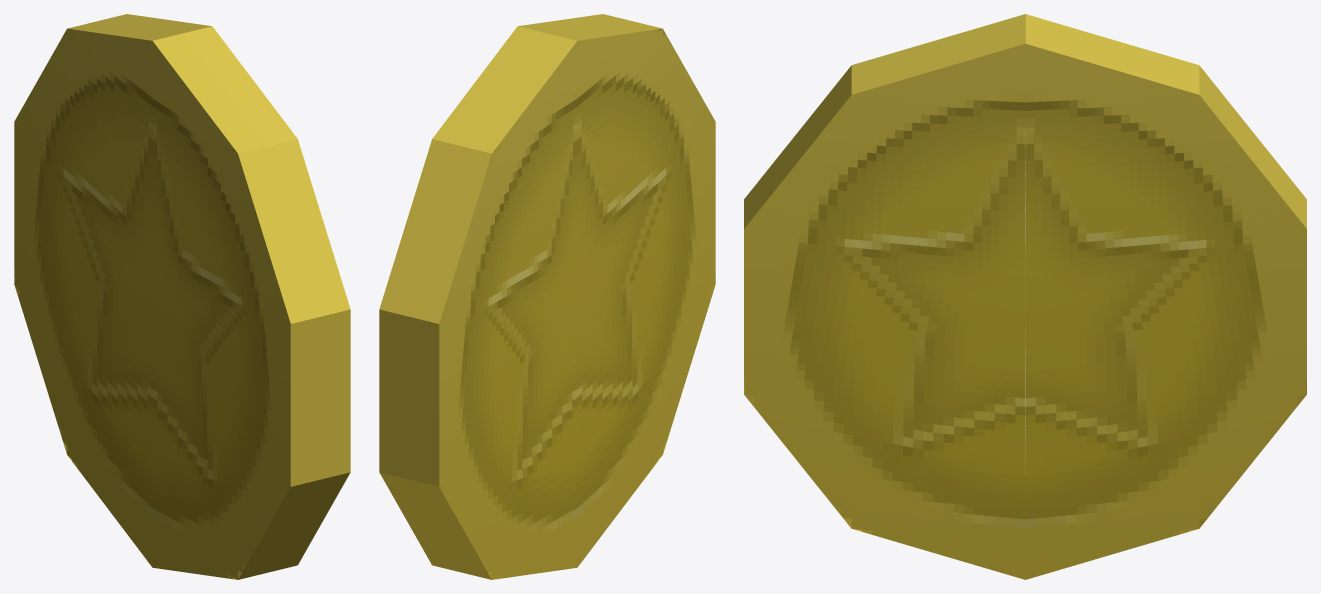
The model's file is coin_1.004_lev1.glb.
3 renders of one model, left to right at view 1: azimuth 30°, elevation 25°; view 2: azimuth 150°, elevation 25°; view 3: azimuth 270°, elevation 25°, orthographic.
Visible parts, largest first — view 1: coin_1.004_lev1; view 2: coin_1.004_lev1; view 3: coin_1.004_lev1.
Part boxes in pixels (<box>): coin_1.004_lev1: <box>14,14,350,579</box>; coin_1.004_lev1: <box>379,14,715,579</box>; coin_1.004_lev1: <box>744,14,1306,579</box>.
Bounding box in the file's own units: 0.4358 × 3.67 × 3.49.
Materials: 1 (1 with a texture image).
